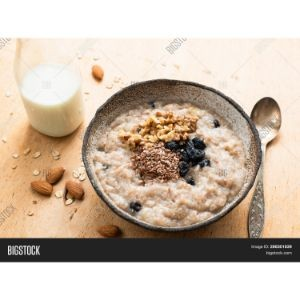oat_brain food: (105, 113, 231, 198)
